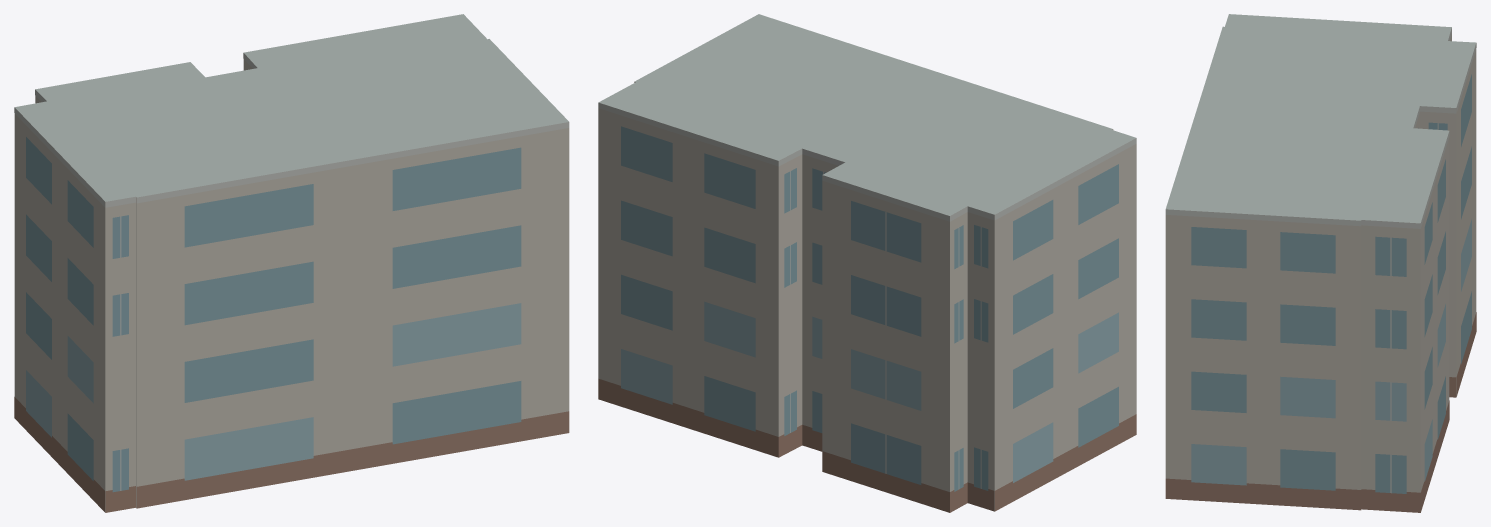
The model's file is survey-upis-32949765.glb.
The picture shows the model from 3 angles, left to right: view 1: azimuth 30°, elevation 25°; view 2: azimuth 150°, elevation 25°; view 3: azimuth 270°, elevation 25°; orthographic projection. The views are drawn at different scales.
Parts seen in each view (by area): view 1: survey-upis-32949765.tmp; view 2: survey-upis-32949765.tmp; view 3: survey-upis-32949765.tmp.
Part boxes in pixels (bbox=[...]): survey-upis-32949765.tmp: bbox=[14, 14, 569, 512]; survey-upis-32949765.tmp: bbox=[598, 14, 1136, 512]; survey-upis-32949765.tmp: bbox=[1165, 14, 1476, 512].
Bounding box in the file's own units: 19.87 × 12.8 × 12.47.
